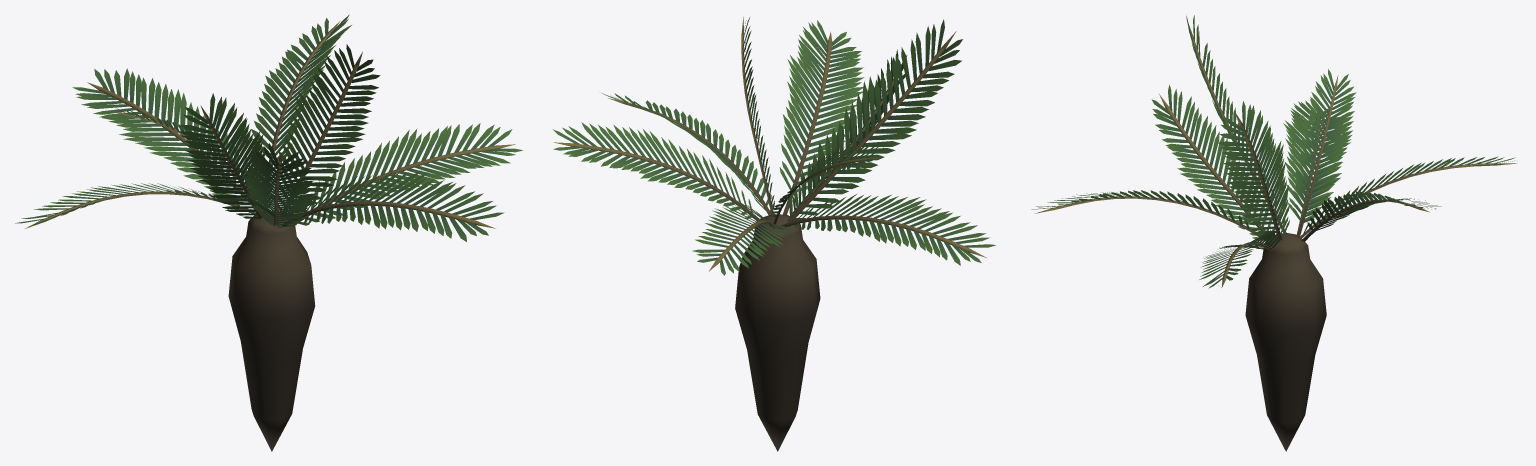
File: trees-palms-ferns-sago-palm_v2.fbx
3 views of the same model, side by side, from view 1: azimuth 30°, elevation 25°; view 2: azimuth 150°, elevation 25°; view 3: azimuth 270°, elevation 25° (orthographic). The views are drawn at different scales.
Visible parts, largest first — view 1: Sago Palm_v2; view 2: Sago Palm_v2; view 3: Sago Palm_v2.
Part boxes in pixels (x1,y1,x2,y2): Sago Palm_v2: [15, 14, 522, 451]; Sago Palm_v2: [552, 17, 995, 451]; Sago Palm_v2: [1031, 15, 1516, 451].
Bounding box in the file's own units: 1.87 × 1.72 × 2.
